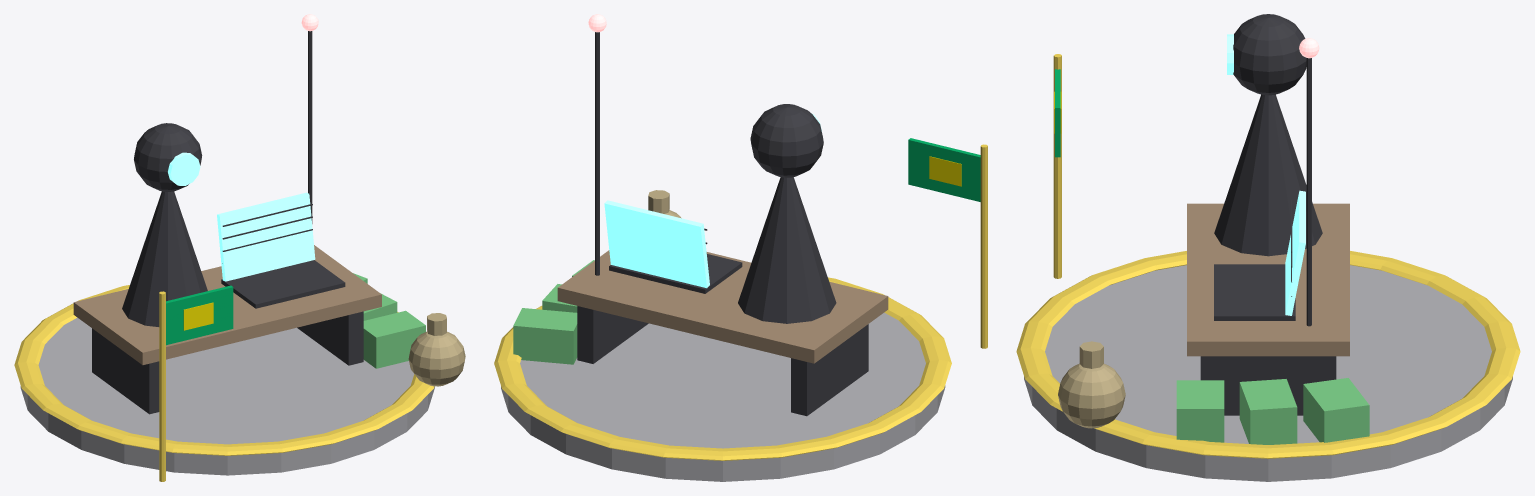
Rendered from Hacker_L3.fbx.
3 renders of one model, left to right at view 1: azimuth 30°, elevation 25°; view 2: azimuth 150°, elevation 25°; view 3: azimuth 270°, elevation 25°, orthographic. The views are drawn at different scales.
Visible parts, largest first — view 1: Hacker_L3.001; view 2: Hacker_L3.001; view 3: Hacker_L3.001.
Boxes of the visible parts, x1,y1,x2,y2 form: Hacker_L3.001: (14,14,465,481); Hacker_L3.001: (494,14,987,481); Hacker_L3.001: (1016,14,1520,481).
Bounding box in the file's own units: 3.71 × 3.23 × 3.71.
